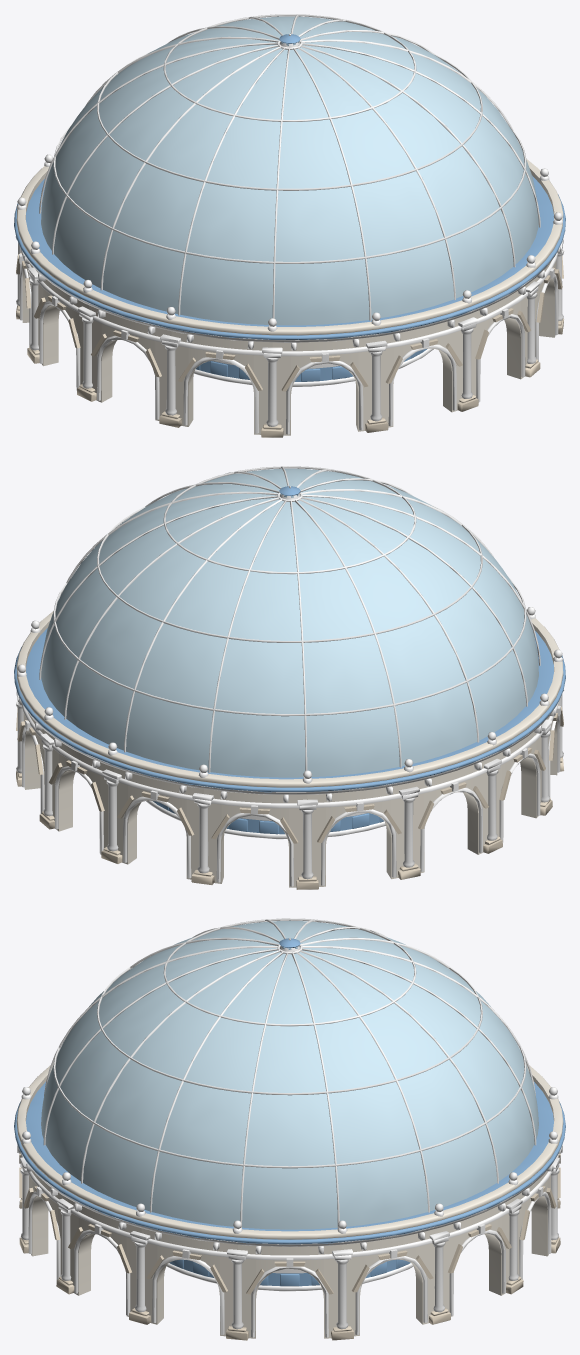
Rendered from fine_hall.glb.
The picture shows the model from 3 angles, top to bottom: view 1: azimuth 30°, elevation 25°; view 2: azimuth 150°, elevation 25°; view 3: azimuth 270°, elevation 25°; orthographic projection.
Visible parts, largest first — view 1: glass, fine_hall_structure, ribs, turntable; view 2: glass, fine_hall_structure, ribs, turntable; view 3: glass, fine_hall_structure, ribs, turntable.
Boxes of the visible parts, <box> form: glass: <box>41,16,538,325</box>; fine_hall_structure: <box>14,34,565,437</box>; ribs: <box>39,14,540,320</box>; turntable: <box>194,348,433,386</box>; glass: <box>41,468,538,777</box>; fine_hall_structure: <box>14,486,565,889</box>; ribs: <box>39,466,540,772</box>; turntable: <box>146,800,385,839</box>; glass: <box>41,920,538,1229</box>; fine_hall_structure: <box>14,938,565,1340</box>; ribs: <box>43,918,536,1228</box>; turntable: <box>166,1259,413,1291</box>.
Size of the model in its own units: 15.49 by 8.94 by 15.49.
